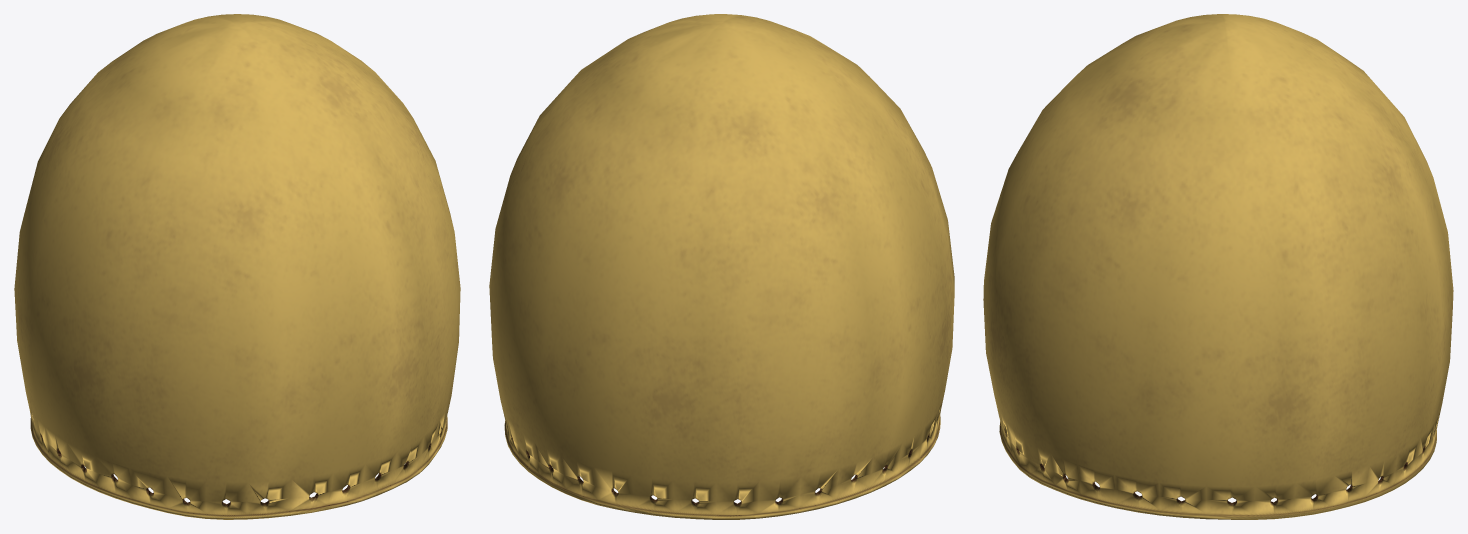
The model's file is helmet-v1.glb.
3 views of the same model, side by side, from view 1: azimuth 30°, elevation 25°; view 2: azimuth 150°, elevation 25°; view 3: azimuth 270°, elevation 25° (orthographic). The views are drawn at different scales.
Visible parts, largest first — view 1: SM_WA10101_Low; view 2: SM_WA10101_Low; view 3: SM_WA10101_Low.
Boxes of the visible parts, x1,y1,x2,y2 form: SM_WA10101_Low: (14,14,460,519); SM_WA10101_Low: (489,14,954,519); SM_WA10101_Low: (983,14,1453,519).
Bounding box in the file's own units: 0.1548 × 0.1525 × 0.1582.
1 material, 1 textured.
